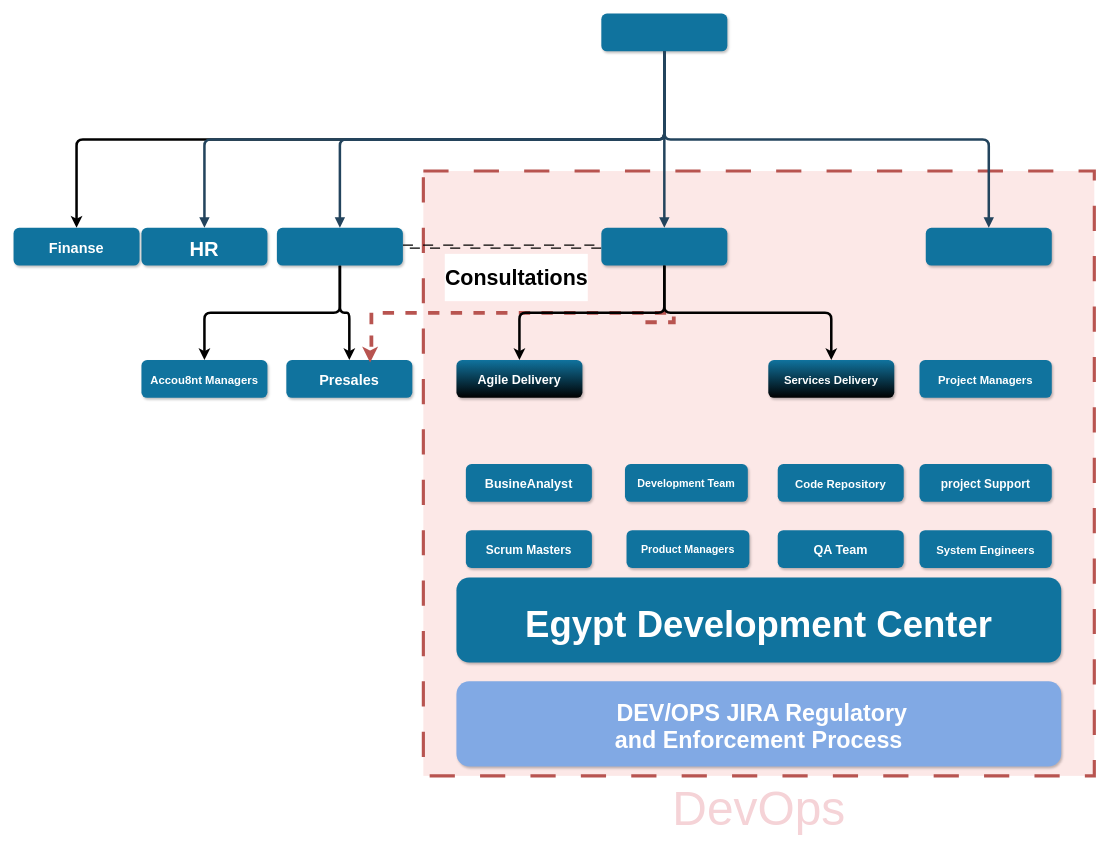
The diagram is 1106 pixels wide and 848 high, and some of its shapes have lost their labels. Each missing label, with the centre of its shape:
"CEO" belongs at pixel 664 33.
"CTO" belongs at pixel 664 247.
"Market & Sales Dept" belongs at pixel 340 247.
"PMO" belongs at pixel 989 247.
